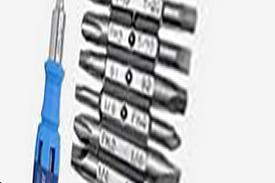Screwdriver: (38, 1, 66, 183)
